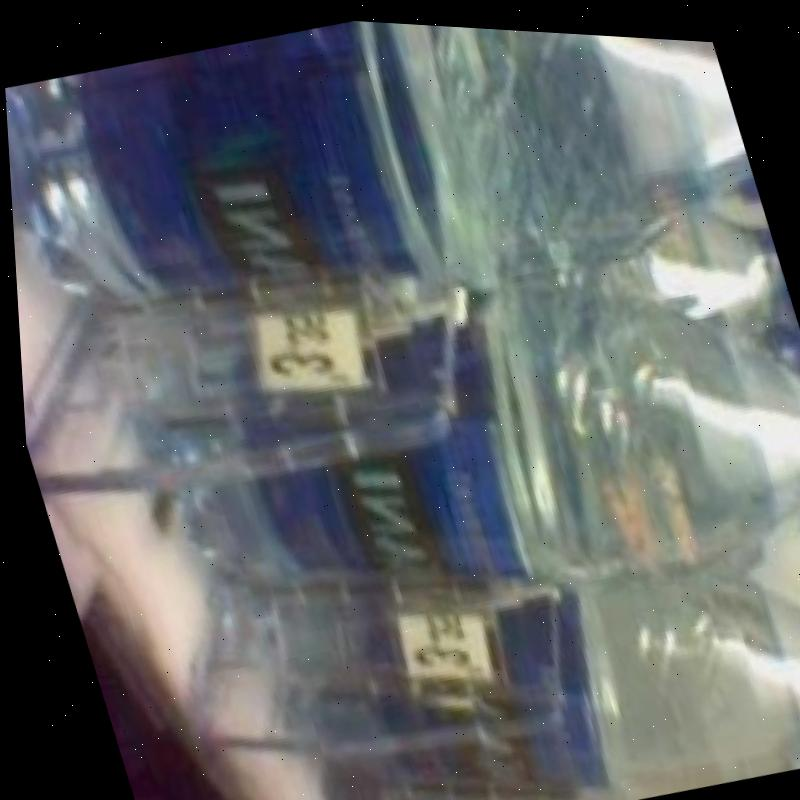botella: (122, 188, 800, 684), (0, 0, 776, 404), (235, 447, 800, 800), (573, 178, 797, 361), (688, 479, 800, 579)
